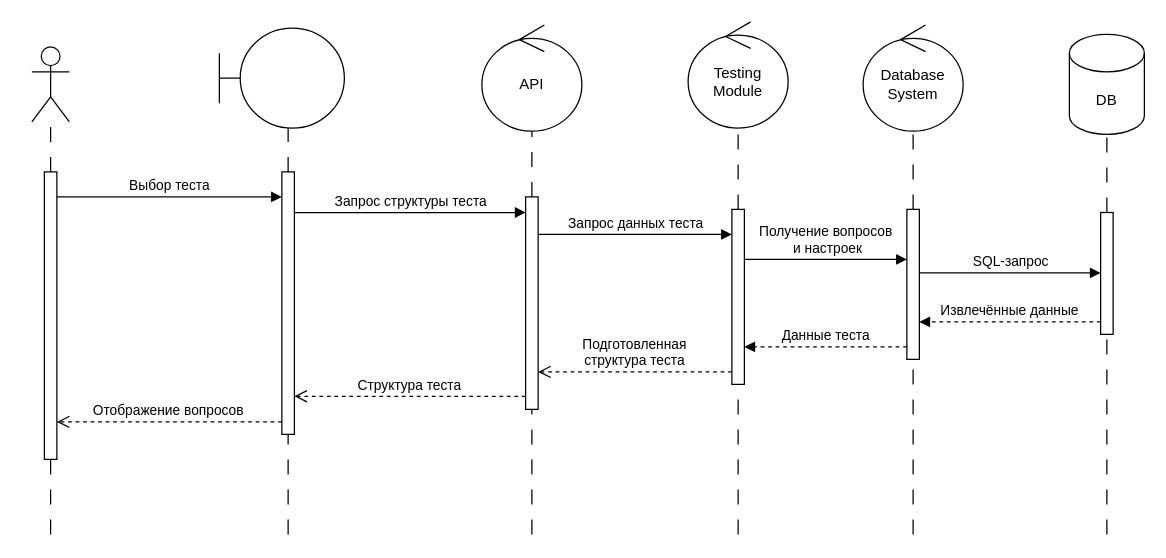
This 1166x558 diagram has some shape labels left out. Here are the shapes that lost their labels. From the top down, the centre of each, then its label:
At point 50,84: "Студент".
At point 281,77: "GUI".
